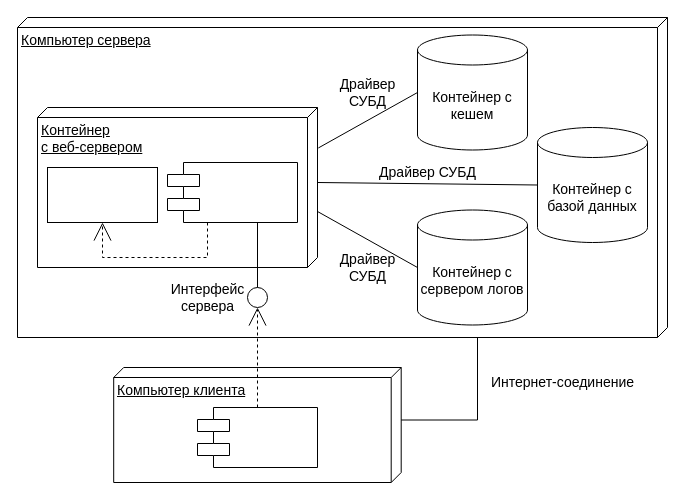
This 685x500 diagram has some shape labels left out. Each missing label, with the centre of its shape:
"«interface» REST API" goes at [102,194].
"Веб-сайт" goes at [257,437].
"Веб-сервер" goes at [232,192].
